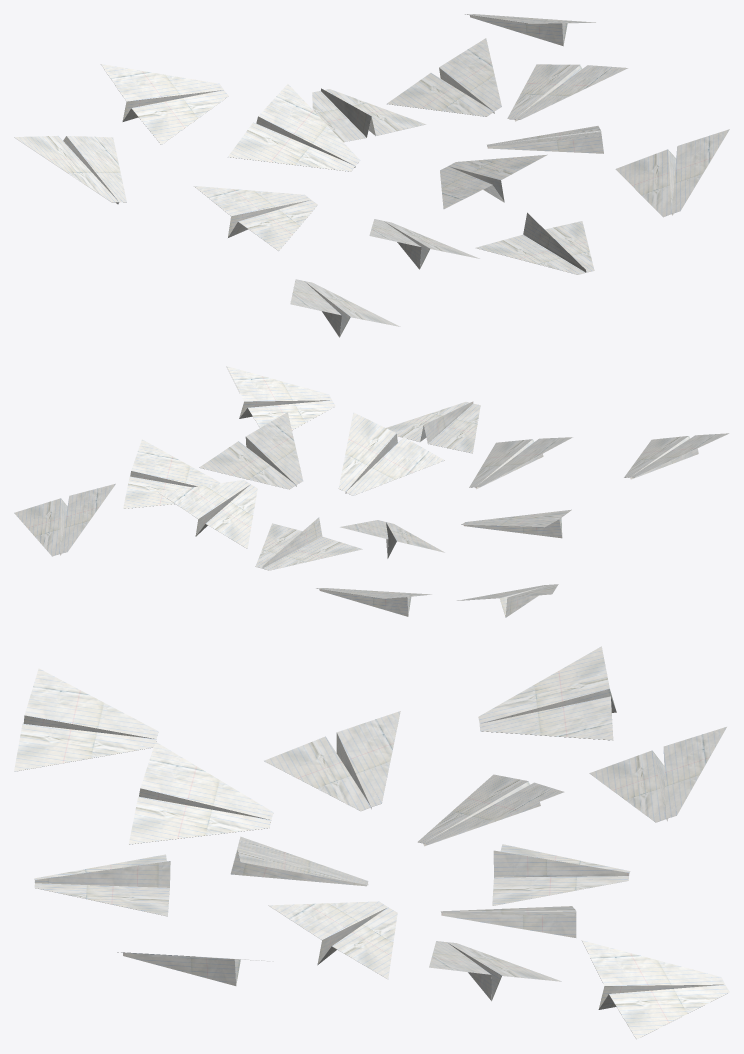
Rendered from Paper Planes Static.FBX.
The picture shows the model from 3 angles, top to bottom: view 1: azimuth 30°, elevation 25°; view 2: azimuth 150°, elevation 25°; view 3: azimuth 270°, elevation 25°; orthographic projection. The views are drawn at different scales.
Visible parts, largest first — view 1: Group_004, Group_009, Group_005, Group_006, Group_003, Group_013, Group_011, Group_007, Group_008, Group_002, Group_014, Group_012 (+2 smaller); view 2: Group_002, Group_012, Group_005, Group_006, Group_008, Group_010, Group_007, Group_011, Group_001, Group_014, Group_003, Group_009 (+2 smaller); view 3: Group_001, Group_014, Group_013, Group_010, Group_003, Group_009, Group_012, Group_007, Group_011, Group_004, Group_002, Group_008 (+2 smaller).
Boxes of the visible parts, x1=… form: Group_004: x1=228, y1=84, x2=360, y2=171; Group_009: x1=100, y1=64, x2=228, y2=144; Group_005: x1=387, y1=38, x2=501, y2=116; Group_006: x1=615, y1=129, x2=729, y2=217; Group_003: x1=194, y1=186, x2=317, y2=250; Group_013: x1=14, y1=136, x2=126, y2=204; Group_011: x1=475, y1=212, x2=594, y2=274; Group_007: x1=312, y1=88, x2=425, y2=142; Group_008: x1=507, y1=64, x2=628, y2=121; Group_002: x1=440, y1=154, x2=547, y2=209; Group_014: x1=290, y1=279, x2=400, y2=337; Group_012: x1=487, y1=126, x2=603, y2=153; Group_002: x1=338, y1=412, x2=444, y2=495; Group_012: x1=199, y1=412, x2=303, y2=489; Group_005: x1=158, y1=480, x2=257, y2=548; Group_006: x1=226, y1=366, x2=335, y2=430; Group_008: x1=123, y1=439, x2=220, y2=508; Group_010: x1=14, y1=483, x2=115, y2=556; Group_007: x1=255, y1=517, x2=362, y2=570; Group_011: x1=386, y1=401, x2=480, y2=453; Group_001: x1=469, y1=437, x2=572, y2=489; Group_014: x1=624, y1=433, x2=729, y2=479; Group_003: x1=461, y1=509, x2=571, y2=538; Group_009: x1=316, y1=588, x2=431, y2=616; Group_001: x1=128, y1=741, x2=273, y2=844; Group_014: x1=14, y1=668, x2=158, y2=771; Group_013: x1=478, y1=646, x2=616, y2=740; Group_010: x1=582, y1=940, x2=729, y2=1039; Group_003: x1=264, y1=711, x2=400, y2=811; Group_009: x1=589, y1=727, x2=726, y2=822; Group_012: x1=268, y1=901, x2=397, y2=979; Group_007: x1=492, y1=844, x2=630, y2=905; Group_011: x1=34, y1=854, x2=170, y2=916; Group_004: x1=417, y1=774, x2=564, y2=846; Group_002: x1=230, y1=836, x2=368, y2=886; Group_008: x1=429, y1=941, x2=561, y2=1001.
Bounding box in the file's own units: 9.02 × 0.6862 × 7.95.
